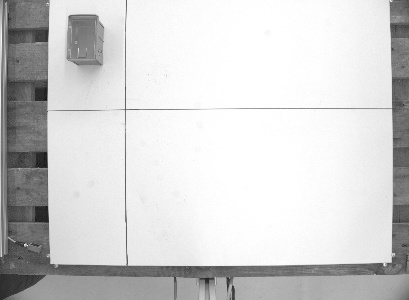kltxs: (64, 12, 107, 68)
